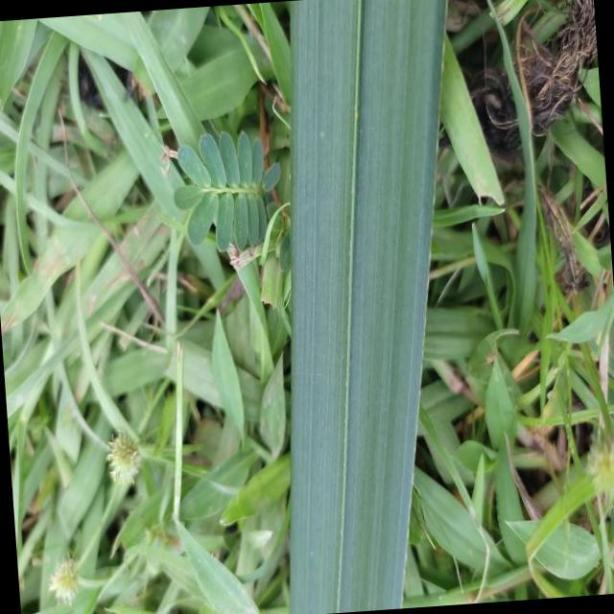Healthy: (288, 6, 444, 614)
